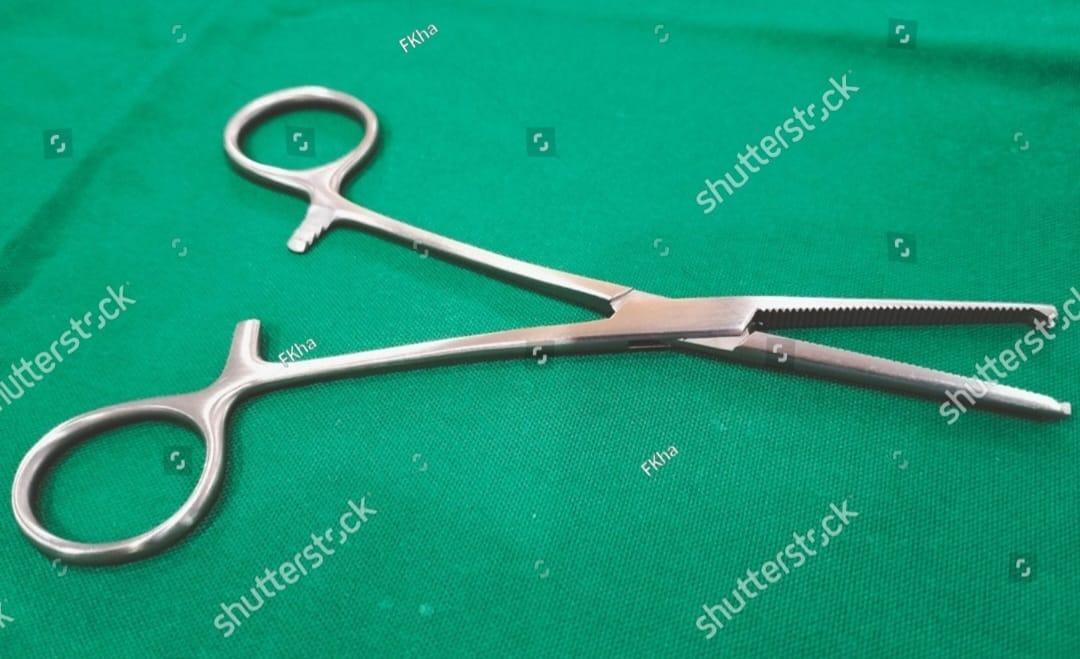Kocher Forceps: (15, 87, 1074, 565)
